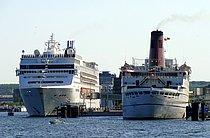Ship: (17, 32, 104, 118), (124, 47, 192, 121)
